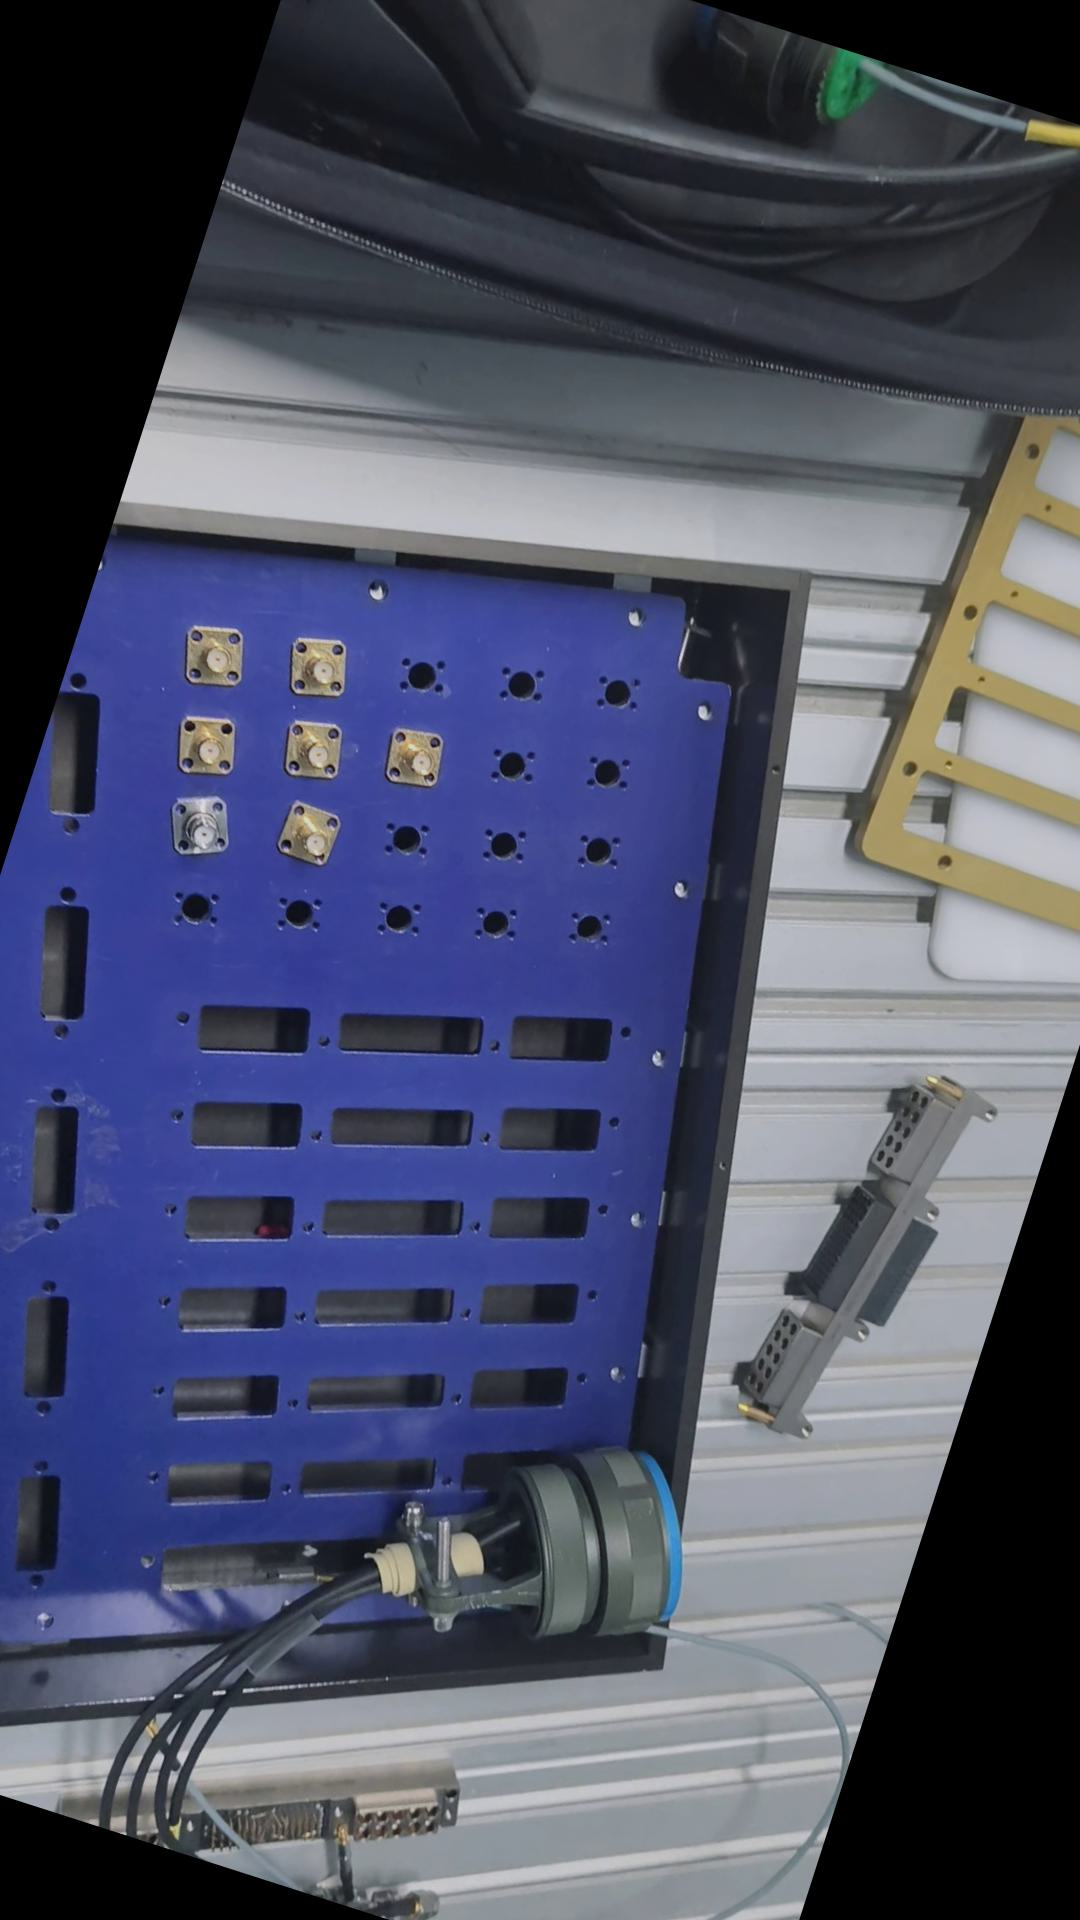SMA: (160, 781, 247, 872), (170, 704, 256, 787), (173, 615, 256, 698), (274, 708, 357, 790), (274, 796, 355, 876), (284, 629, 361, 707), (378, 724, 456, 799)
